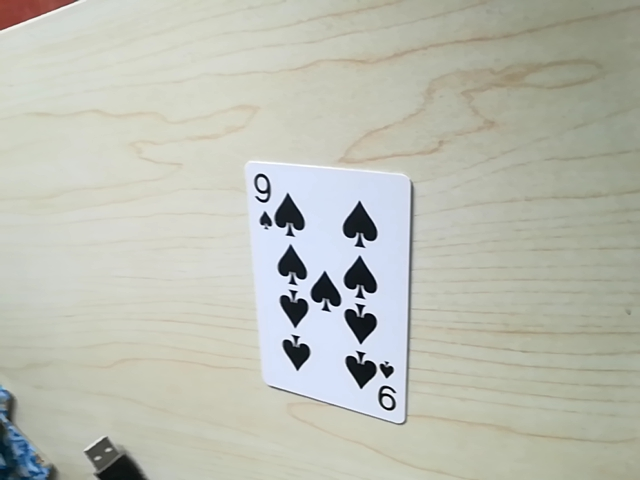ht 9: (248, 165, 282, 230), (371, 361, 404, 415)
